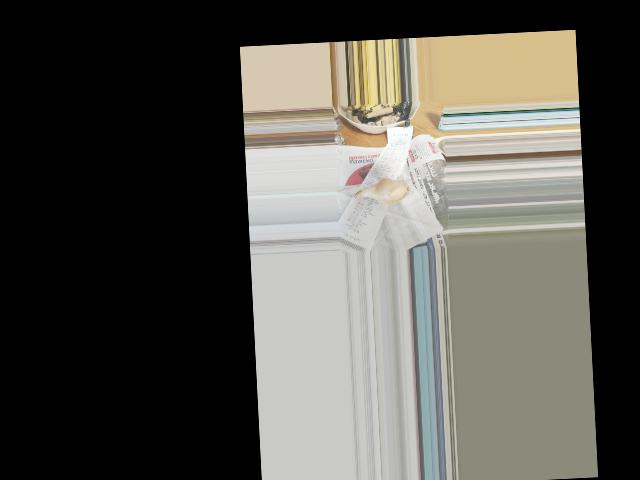onion: (369, 179, 413, 205)
